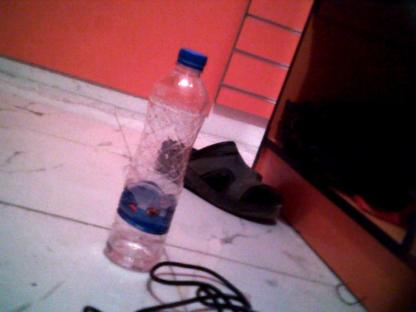Plastic Bottle: (104, 49, 210, 273)
